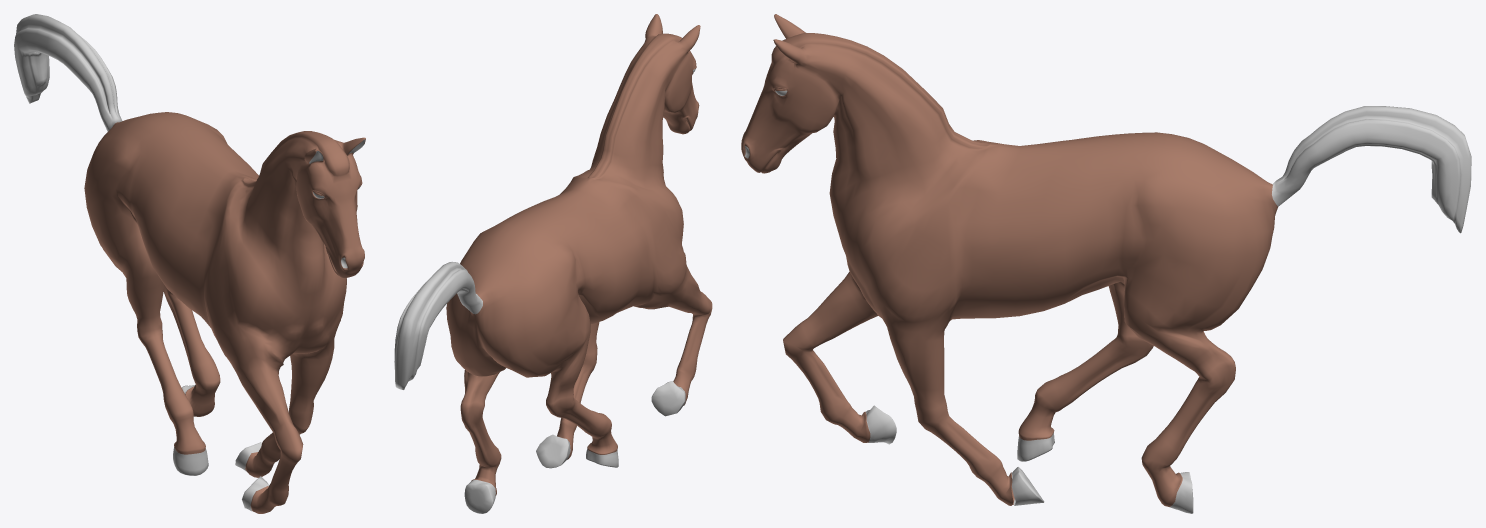
The model's file is horse_obj_5.obj.
The picture shows the model from 3 angles, left to right: view 1: azimuth 30°, elevation 25°; view 2: azimuth 150°, elevation 25°; view 3: azimuth 270°, elevation 25°; orthographic projection. The views are drawn at different scales.
Visible parts, largest first — view 1: Figure_1; view 2: Figure_1; view 3: Figure_1.
Boxes of the visible parts, box(x1,y1,x2,y2) form: Figure_1: box(14, 14, 365, 513); Figure_1: box(394, 14, 712, 513); Figure_1: box(741, 14, 1471, 513).
Bounding box in the file's own units: 0.2421 × 0.7779 × 1.1.
